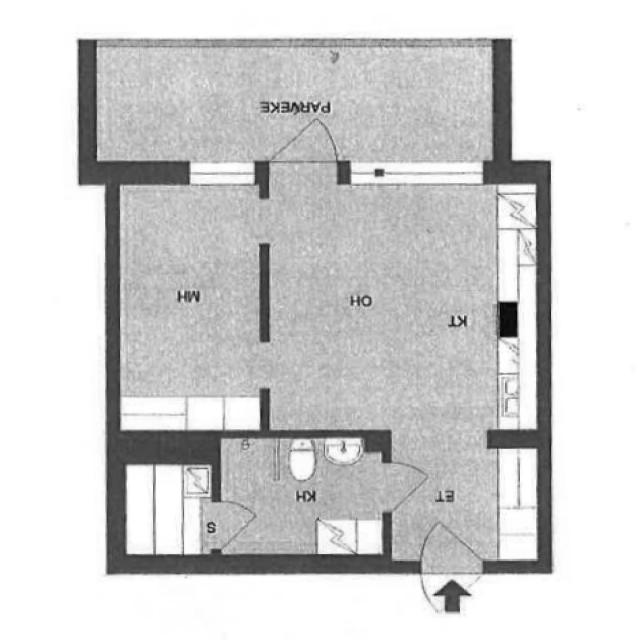door: (414, 520, 488, 577), (263, 125, 348, 163), (384, 451, 426, 521), (218, 495, 258, 560)
window: (344, 161, 483, 186), (185, 158, 259, 187)
zone: (253, 164, 547, 436), (102, 174, 261, 435), (208, 436, 396, 558), (385, 437, 547, 565)
